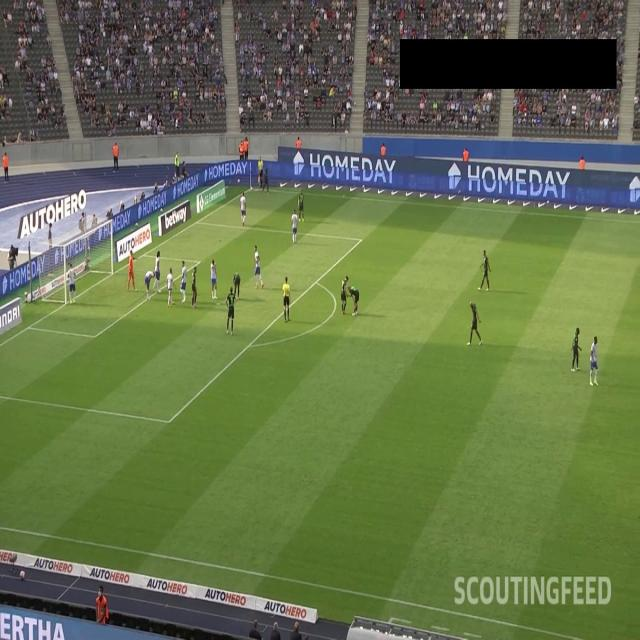ball: (249, 178, 253, 194)
player: (467, 299, 485, 345), (588, 332, 600, 386), (251, 243, 264, 286), (570, 323, 581, 370), (209, 257, 220, 299), (153, 243, 163, 289), (340, 274, 350, 316), (226, 287, 236, 329), (237, 189, 248, 227), (480, 249, 490, 290), (68, 262, 77, 307), (178, 260, 188, 300), (232, 266, 244, 298), (144, 264, 156, 296), (349, 284, 361, 314), (167, 267, 177, 303), (128, 246, 136, 291), (191, 260, 199, 304), (291, 209, 298, 244), (298, 187, 304, 221), (263, 161, 269, 193)
